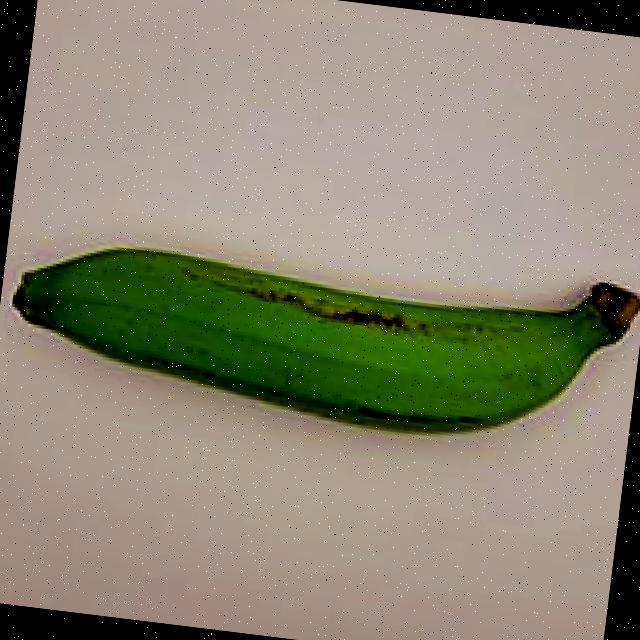Raw: (0, 153, 640, 495)
